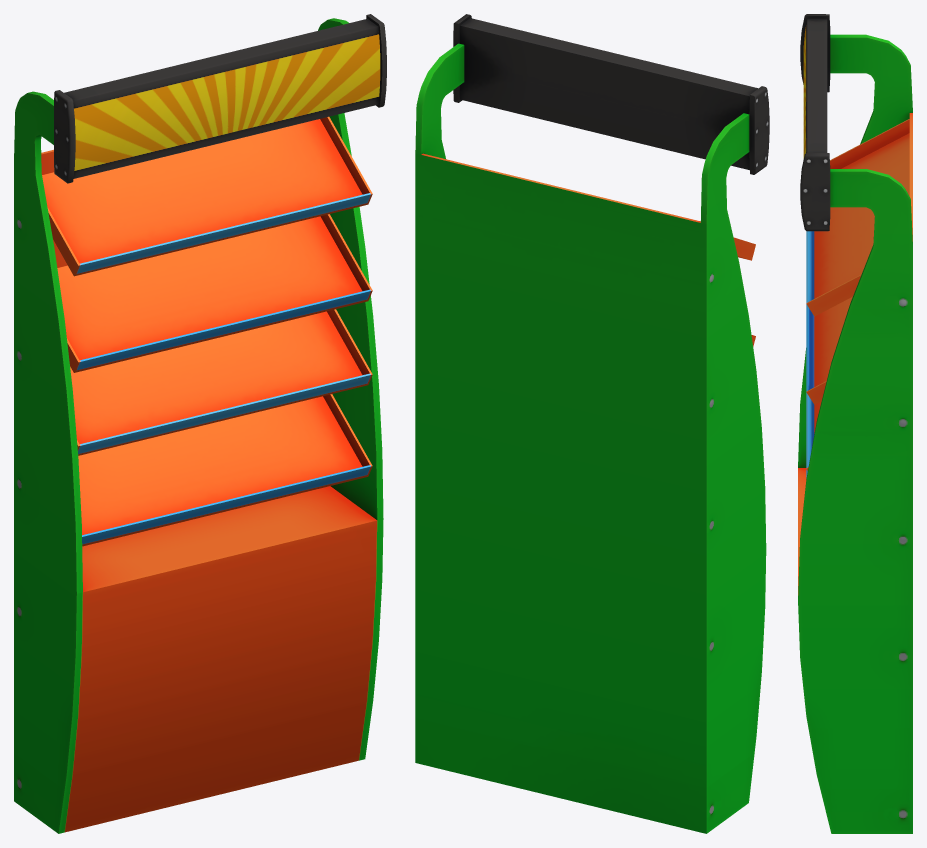
Rendered from CommShelving02_3.FBX.
3 views of the same model, side by side, from view 1: azimuth 30°, elevation 25°; view 2: azimuth 150°, elevation 25°; view 3: azimuth 270°, elevation 25° (orthographic). The views are drawn at different scales.
Visible parts, largest first — view 1: CommShelving02_3; view 2: CommShelving02_3; view 3: CommShelving02_3.
Part boxes in pixels (x1,y1,x2,y2): CommShelving02_3: [14, 14, 386, 833]; CommShelving02_3: [415, 14, 769, 833]; CommShelving02_3: [798, 14, 912, 833].
Size of what is drawn, in the model's own units: 1.03 by 2.32 by 0.355.
